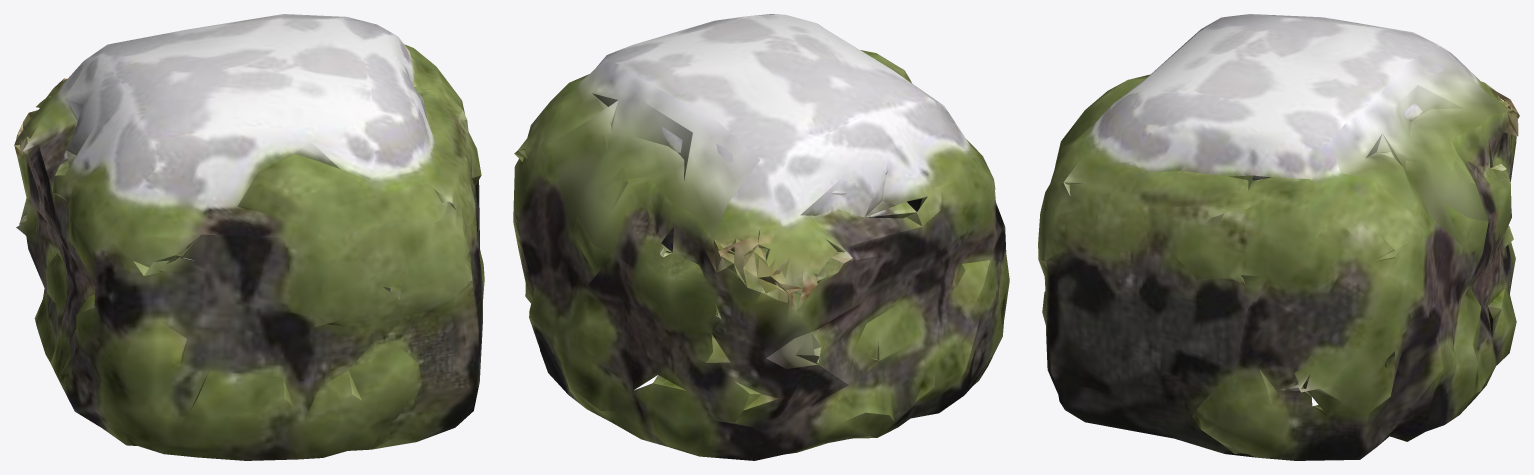
File: rock.glb
3 renders of one model, left to right at view 1: azimuth 30°, elevation 25°; view 2: azimuth 150°, elevation 25°; view 3: azimuth 270°, elevation 25°, orthographic.
Parts seen in each view (by area): view 1: rock; view 2: rock; view 3: rock.
Boxes of the visible parts, bbox=[...] form: rock: bbox=[14, 14, 484, 460]; rock: bbox=[513, 14, 1009, 460]; rock: bbox=[1038, 14, 1519, 460].
Bounding box in the file's own units: 1.2 × 0.9 × 1.21.
Materials: 1 (1 with a texture image).
